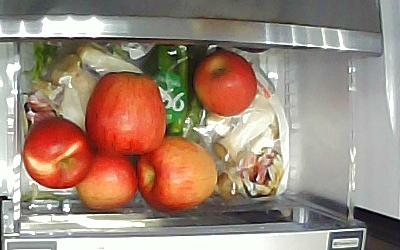apple: (87, 72, 166, 157), (135, 135, 217, 214), (21, 119, 93, 190), (192, 51, 259, 116), (75, 149, 138, 212)
